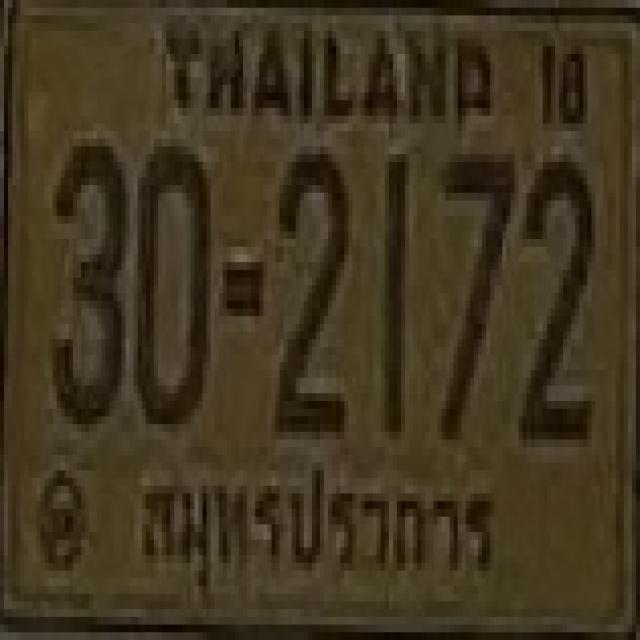0: (136, 139, 208, 424)
1: (381, 154, 405, 432)
2: (518, 154, 592, 432), (276, 146, 344, 432)
3: (51, 139, 128, 424)
7: (440, 150, 512, 436)
SPK: (129, 463, 503, 599)
